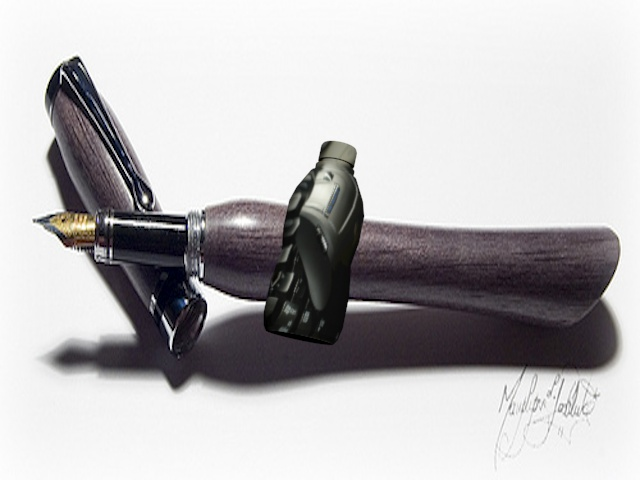bottle: (257, 132, 368, 352)
